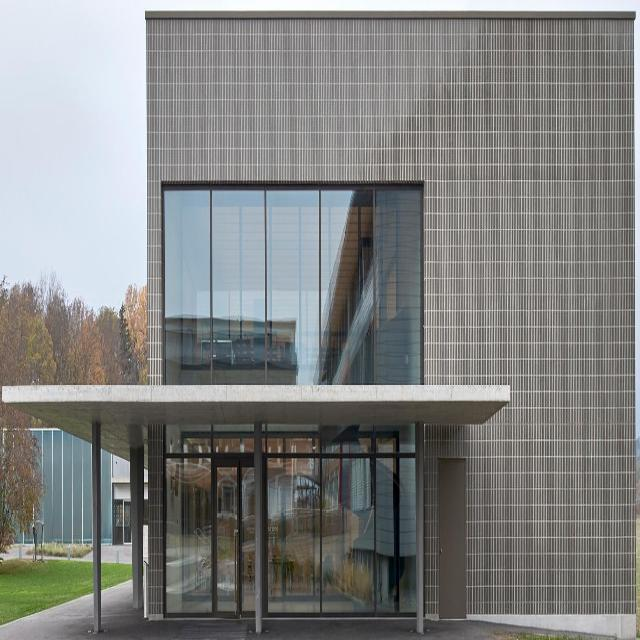door: (211, 452, 269, 611), (439, 455, 465, 616)
window: (162, 174, 422, 378), (164, 422, 417, 617)
